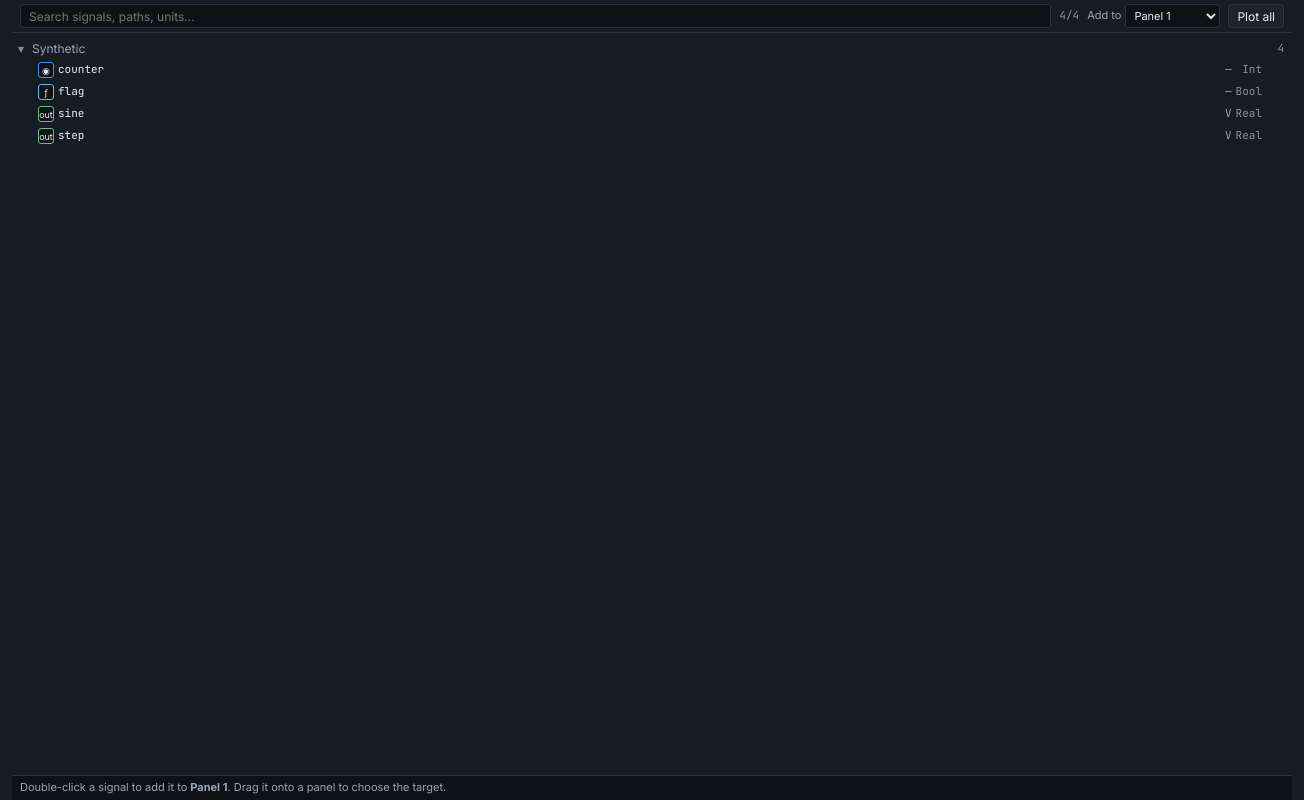
Test case: SignalBrowser › adds a signal to the active panel on double-click
Double-click the list item "out sine V Real": (46, 114) [12, 103, 1292, 125]
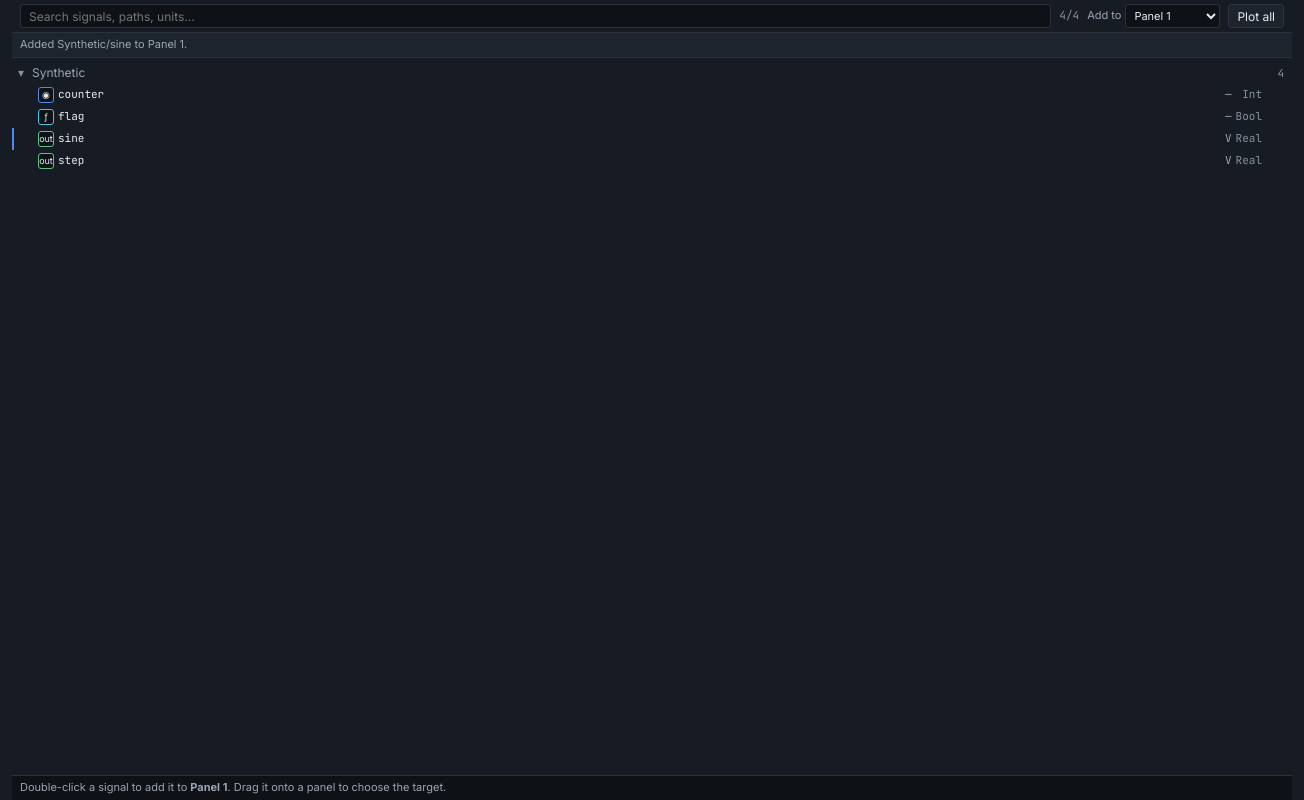
Result: the text "Added Synthetic/sine to Panel 1" is shown at [20, 37, 187, 51]
